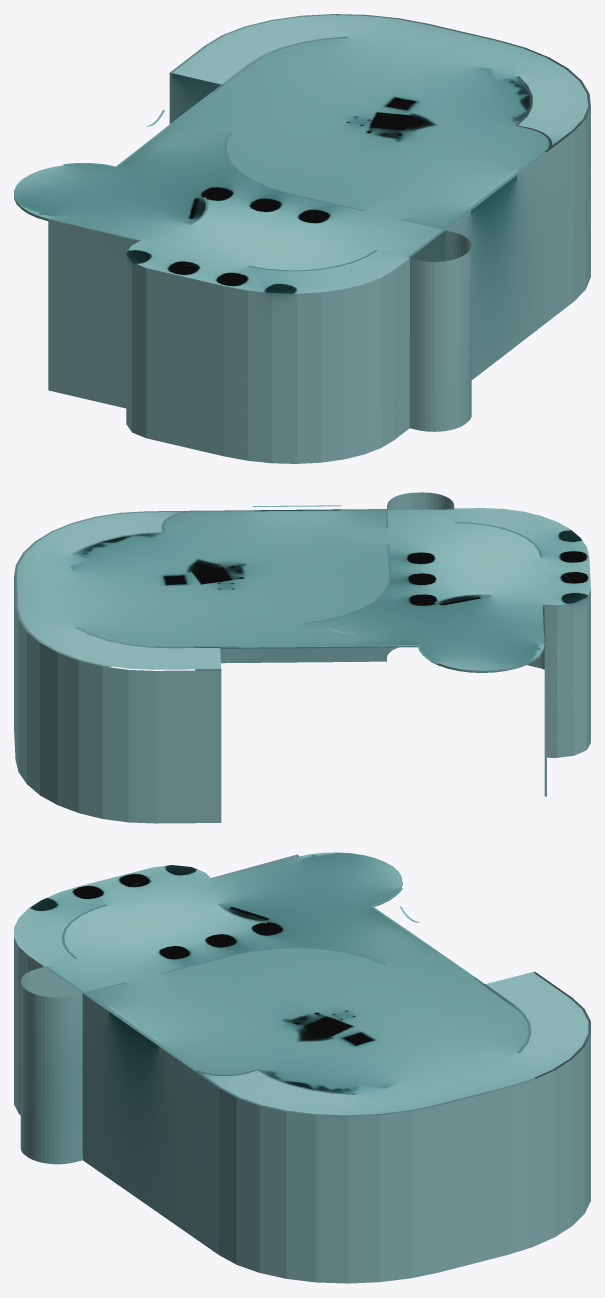
The model's file is structure_lower.glb.
3 renders of one model, top to bottom at view 1: azimuth 30°, elevation 25°; view 2: azimuth 150°, elevation 25°; view 3: azimuth 270°, elevation 25°, orthographic. The views are drawn at different scales.
Parts seen in each view (by area): view 1: Structure.lower; view 2: Structure.lower; view 3: Structure.lower.
Part boxes in pixels (x1,y1,x2,y2): Structure.lower: (14,14,590,463); Structure.lower: (14,492,590,823); Structure.lower: (14,852,590,1283).
Size of the model in its own units: 22.63 by 7.46 by 20.89.
Materials: 1 (1 with a texture image).
